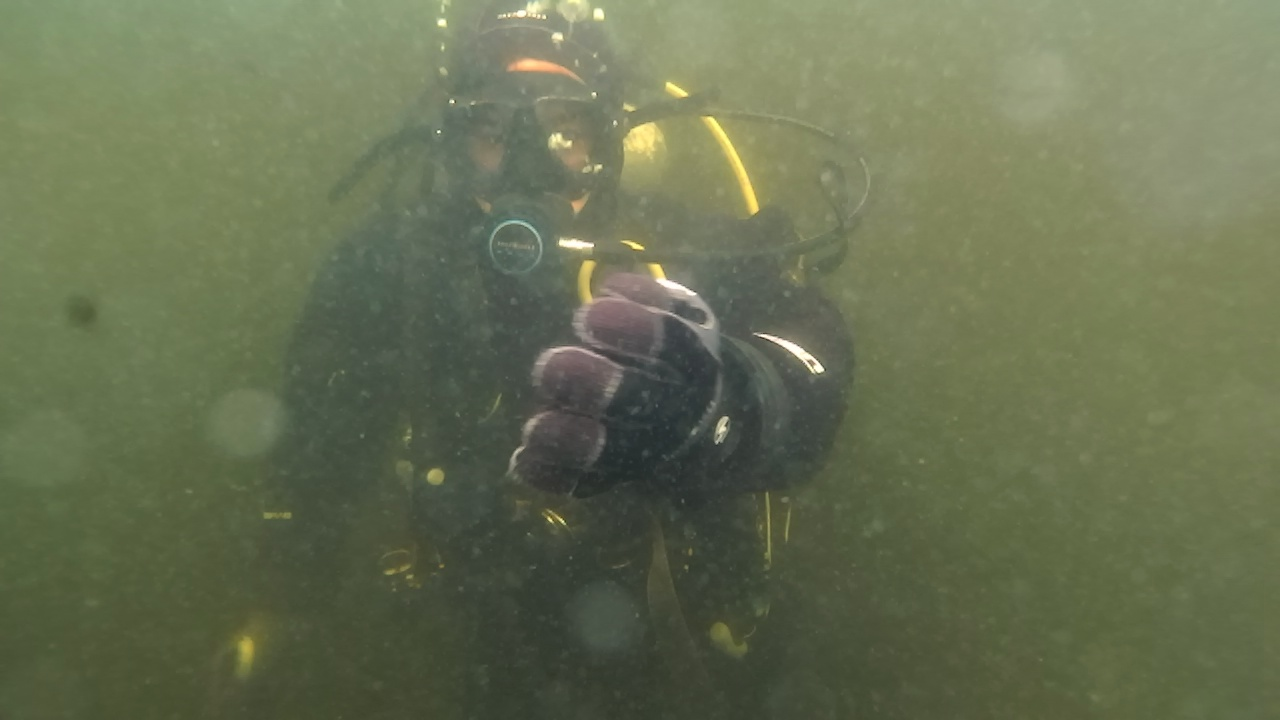Diver: (196, 6, 1034, 704)
Hand: (474, 210, 908, 550)
Head: (386, 14, 664, 330)
